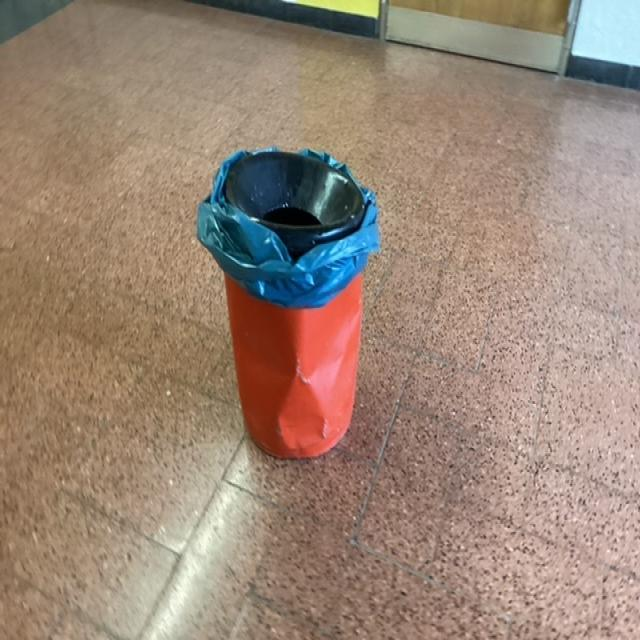garbage container: (158, 104, 418, 508)
